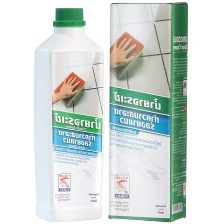book: (103, 0, 192, 223)
cleaning_solution: (31, 5, 107, 223)
